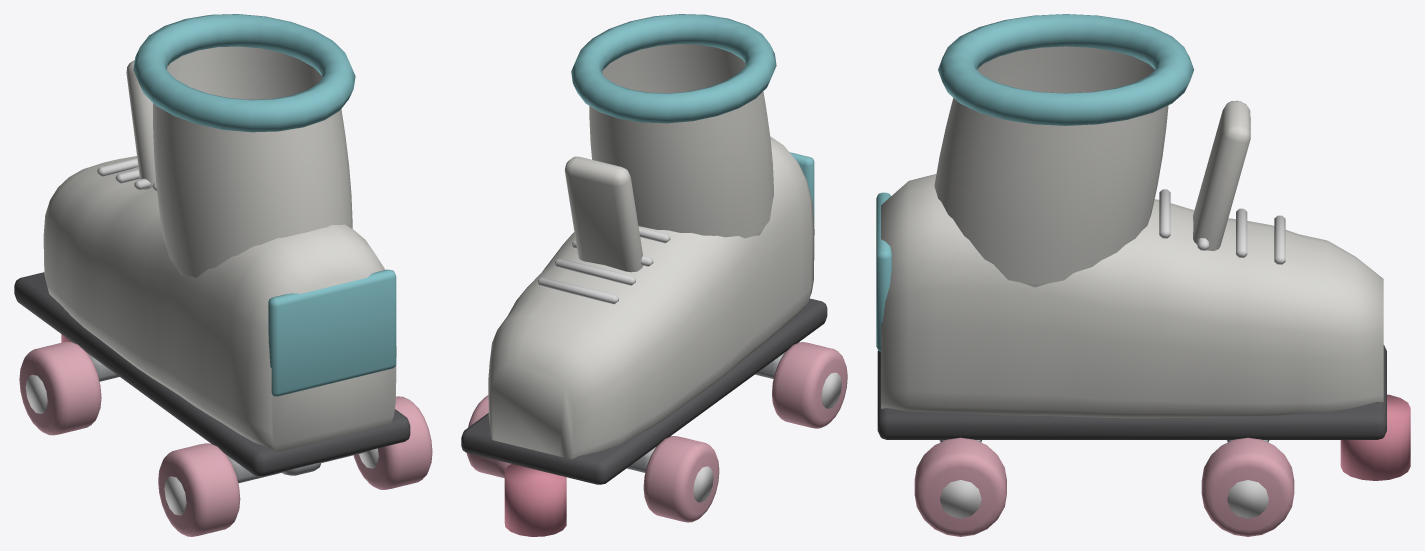
File: skate.glb
3 renders of one model, left to right at view 1: azimuth 30°, elevation 25°; view 2: azimuth 150°, elevation 25°; view 3: azimuth 270°, elevation 25°, orthographic. The views are drawn at different scales.
Parts seen in each view (by area): view 1: skate; view 2: skate; view 3: skate.
Boxes of the visible parts, bbox=[...] form: skate: bbox=[14, 14, 432, 536]; skate: bbox=[461, 14, 847, 536]; skate: bbox=[876, 14, 1410, 536].
Size of the model in its own units: 0.181 by 0.295 by 0.335.
